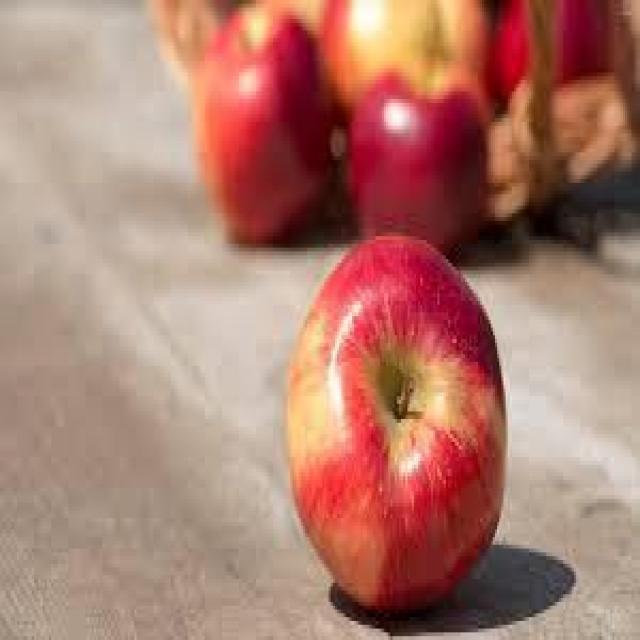maca: (284, 228, 508, 614)
